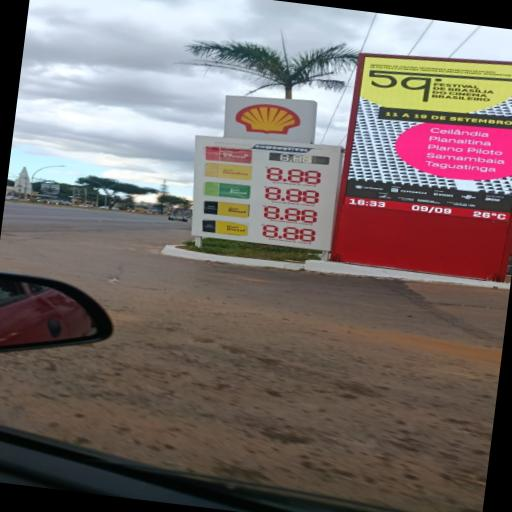ETANOL: (205, 182, 252, 200)
S500: (202, 200, 250, 219), (200, 220, 248, 235)
placa: (187, 137, 341, 251)
